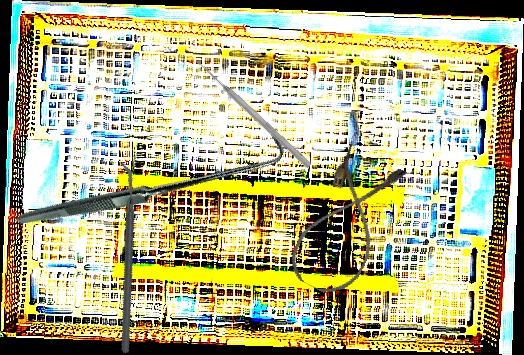Cannula: (282, 142, 411, 304)
Chopper: (48, 160, 202, 355)
Hook Surgical: (15, 44, 291, 316)
Pusher: (195, 58, 313, 170)
